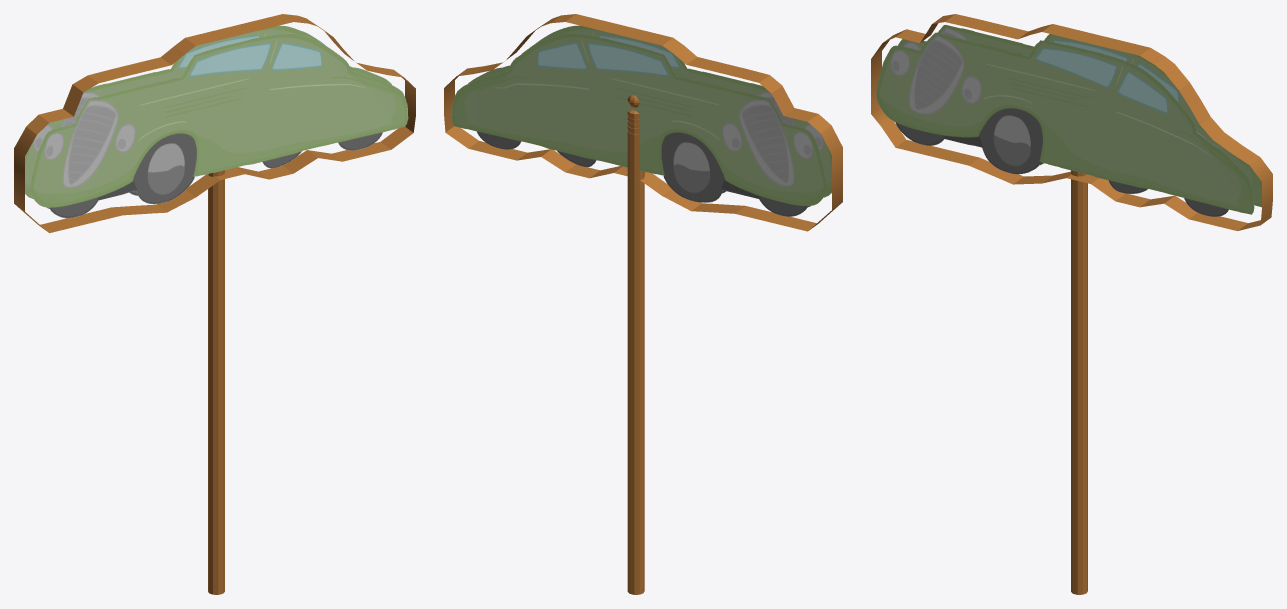
The model's file is Escena7_Carro2.fbx.
The picture shows the model from 3 angles, left to right: view 1: azimuth 30°, elevation 25°; view 2: azimuth 150°, elevation 25°; view 3: azimuth 330°, elevation 25°; orthographic projection.
Parts seen in each view (by area): view 1: polySurface3; view 2: polySurface3; view 3: polySurface3.
Part boxes in pixels (x1,y1,x2,y2): polySurface3: (14,14,415,594); polySurface3: (444,14,842,594); polySurface3: (871,14,1272,594).
Bounding box in the file's own units: 8.71 × 11.9 × 0.5054.
